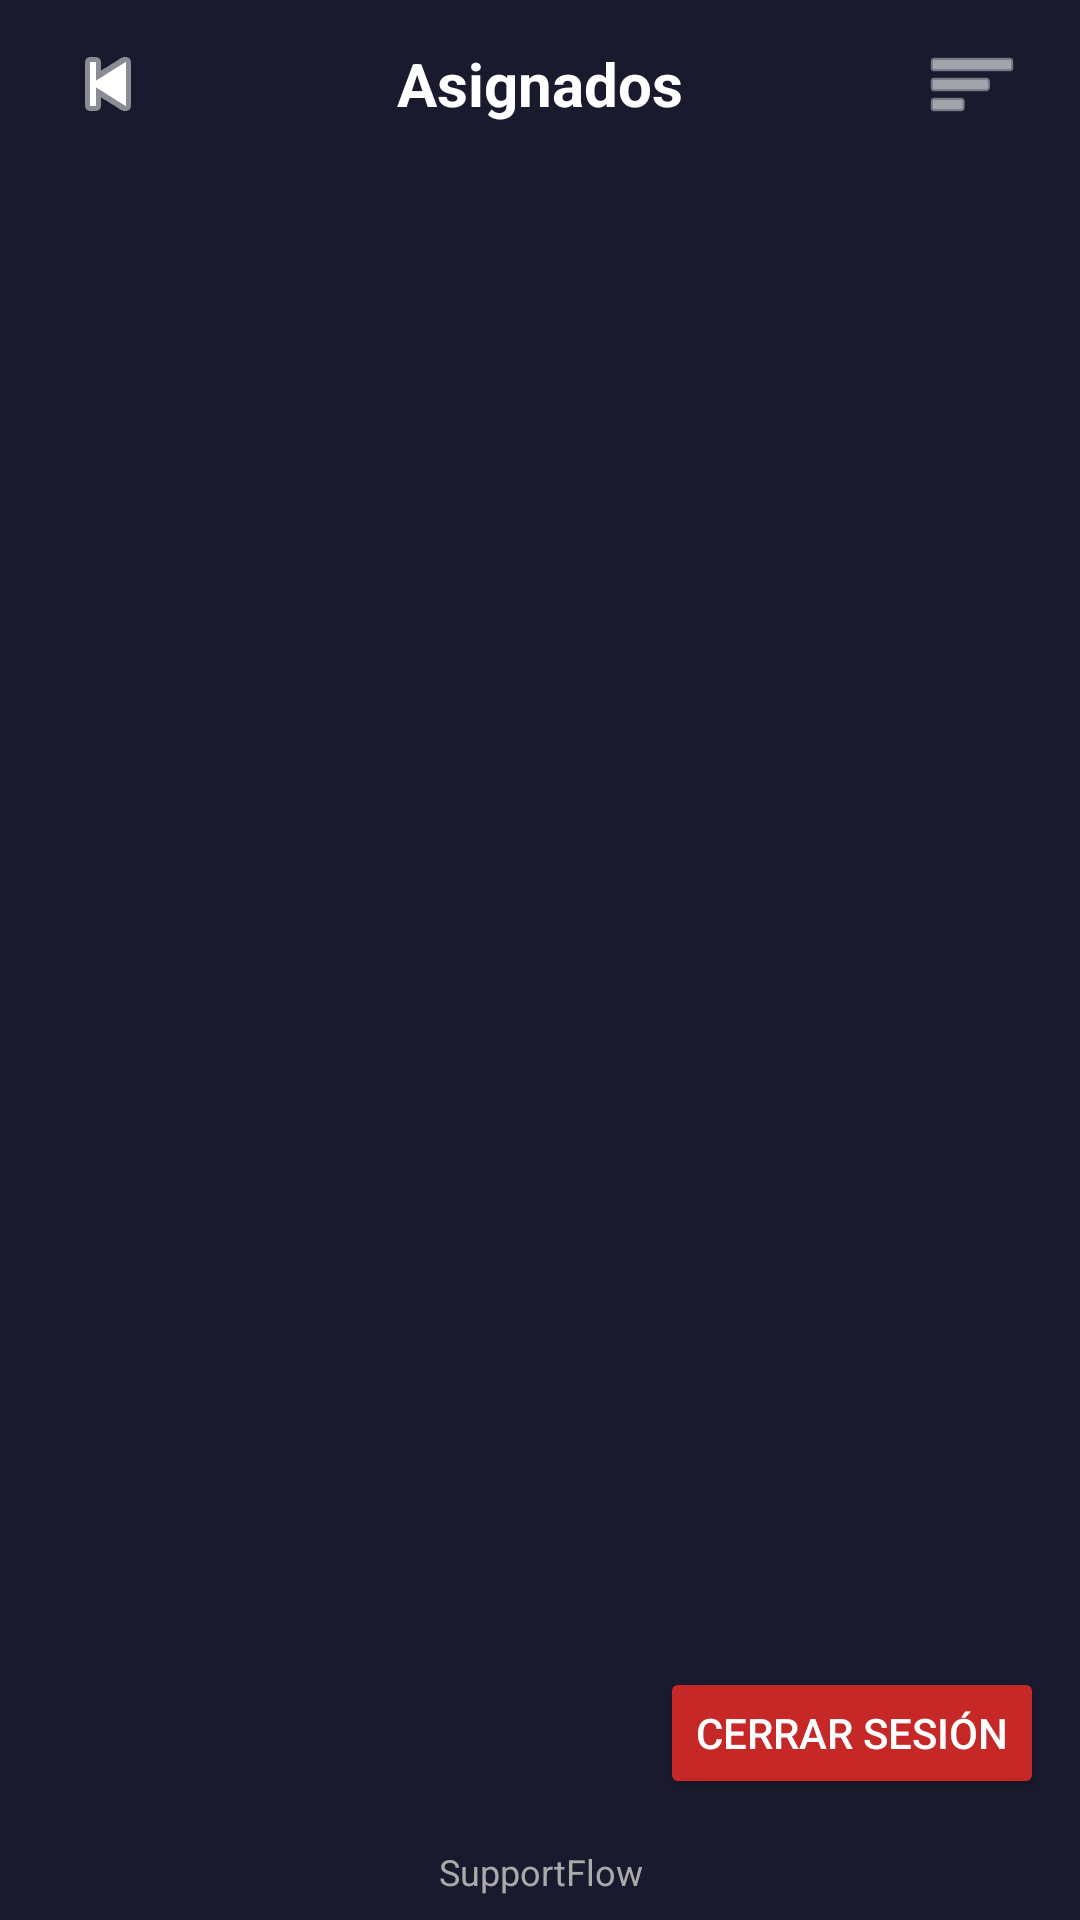

Icon click points for this 1080*1920 phone screenshot, format (x=x, y=y):
Filtrar: (x=972, y=84)
Regresar: (x=108, y=84)
